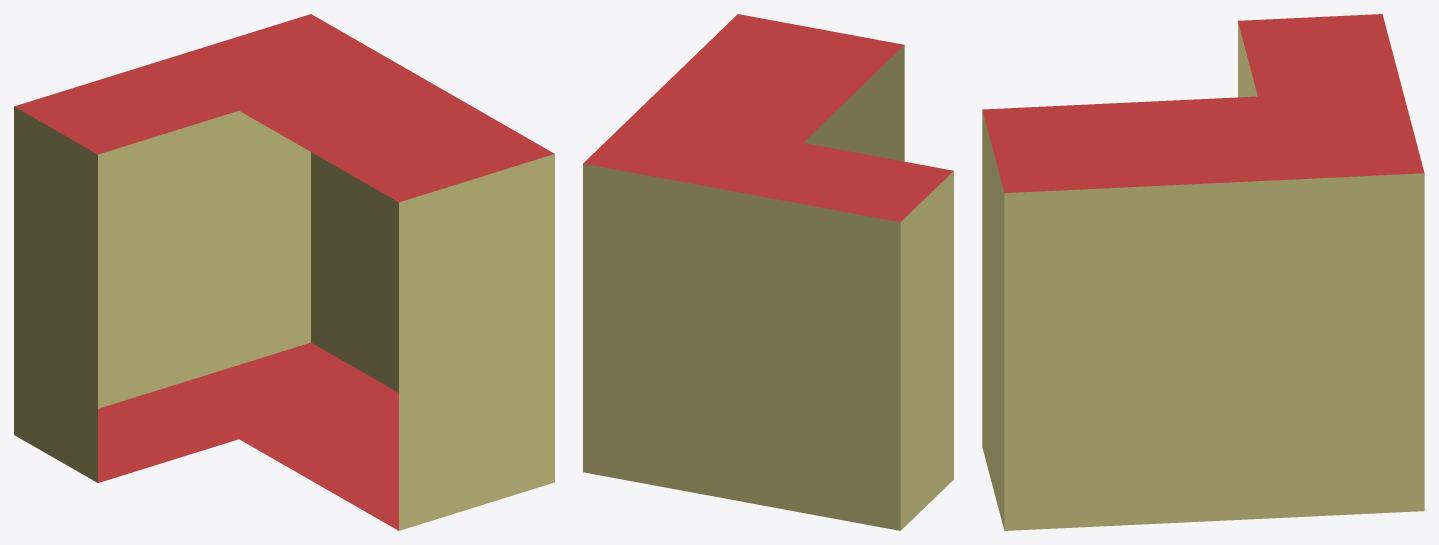
The picture shows the model from 3 angles, left to right: view 1: azimuth 30°, elevation 25°; view 2: azimuth 150°, elevation 25°; view 3: azimuth 270°, elevation 25°; orthographic projection. The views are drawn at different scales.
Size of the model in its own units: 9.31 by 9.72 by 8.19.
